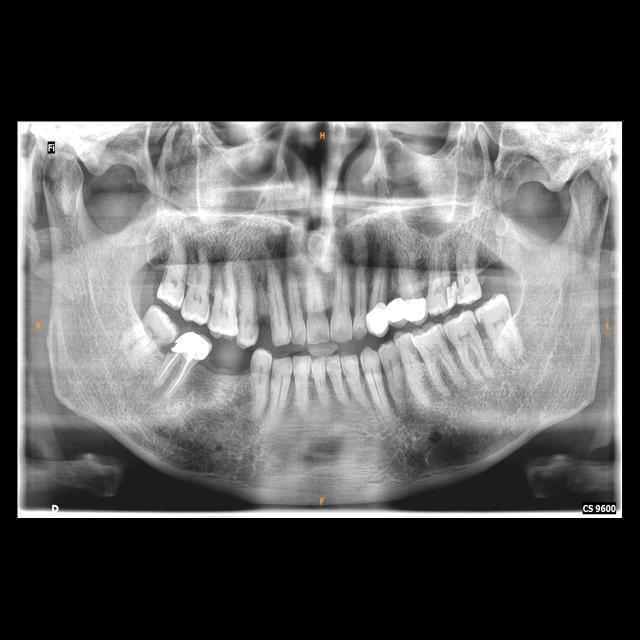kanal-tedavisi: (157, 356, 190, 394)
kaplama: (168, 328, 214, 363), (367, 302, 391, 334), (405, 296, 427, 322)
kopru: (377, 297, 418, 327)
